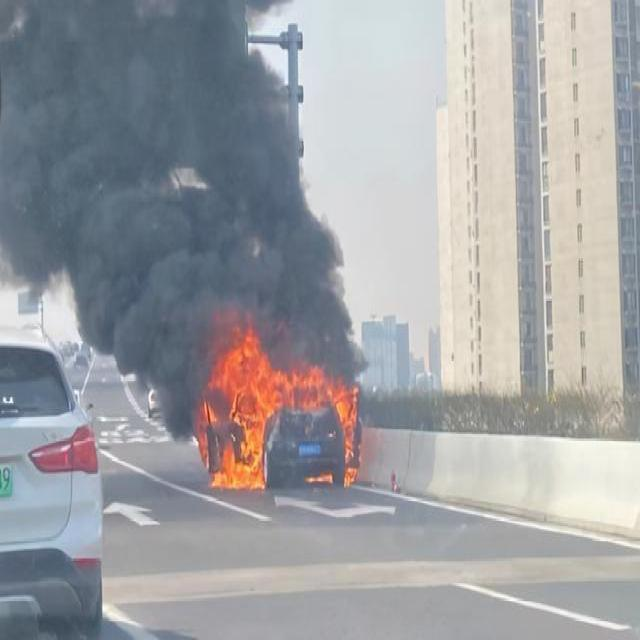Fire: (196, 341, 268, 488), (268, 364, 354, 409), (345, 414, 359, 486)
Smoke: (0, 4, 354, 337), (118, 338, 195, 438)
